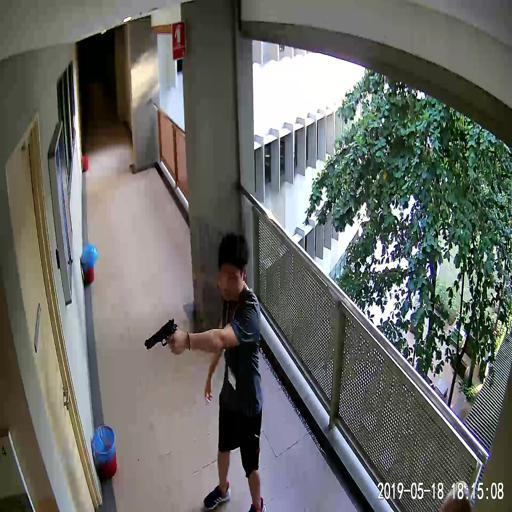Handgun: (142, 317, 179, 354)
